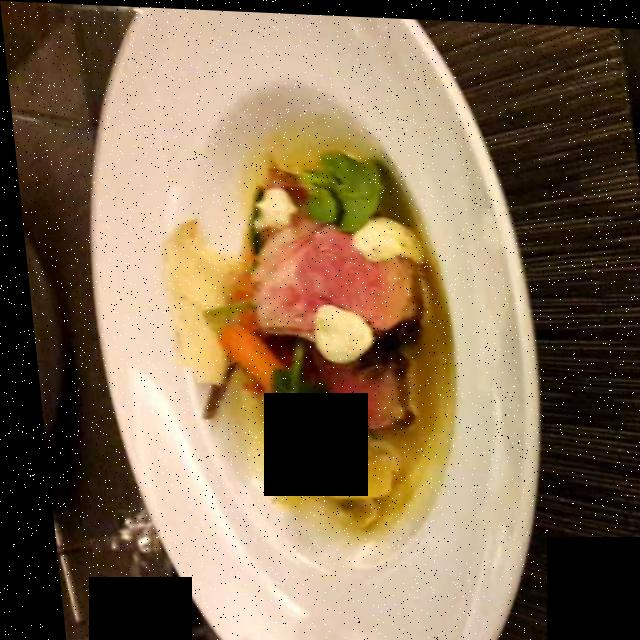crisps: (136, 202, 412, 374)
lamb-chop: (239, 217, 431, 413)
sauce-savoury: (212, 107, 461, 532)
